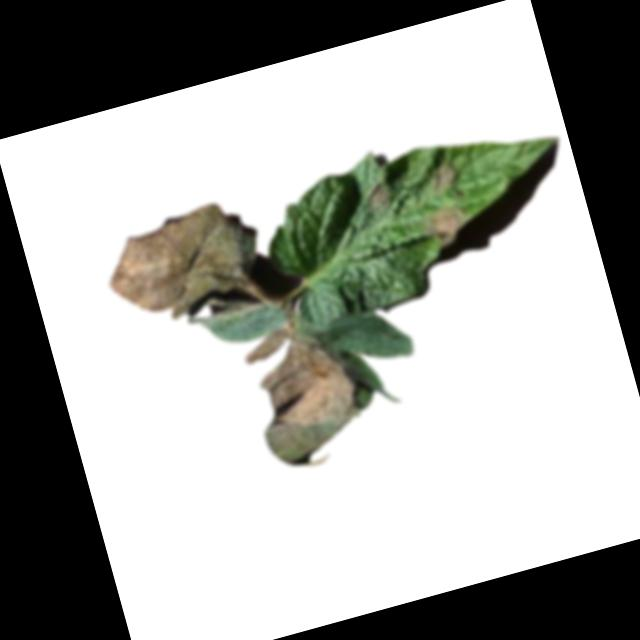Late_blight: (96, 192, 275, 337), (237, 309, 376, 475), (424, 201, 471, 247), (428, 158, 462, 192), (368, 180, 394, 209)
